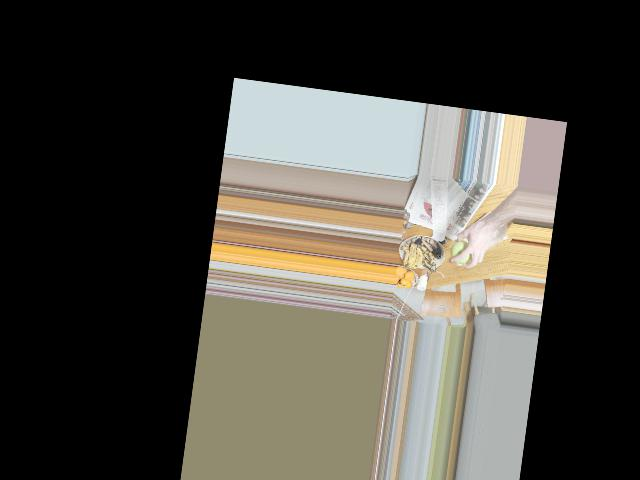apple: (450, 238, 474, 265)
